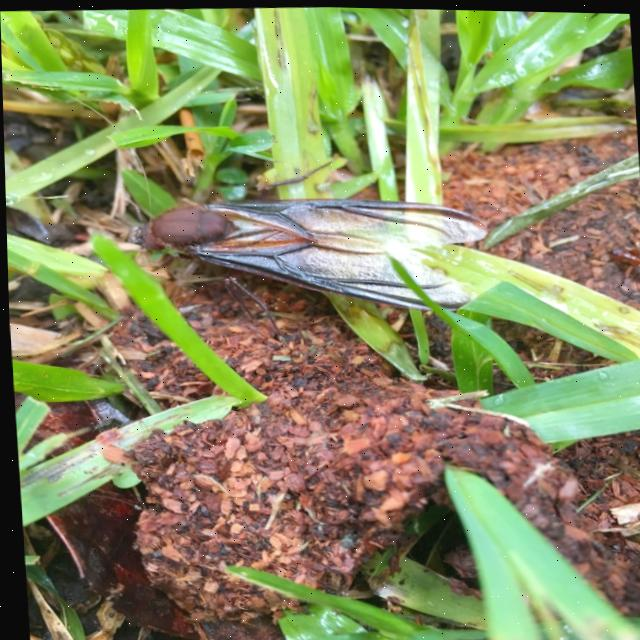Alive-Female-Alate: (118, 184, 494, 357)
